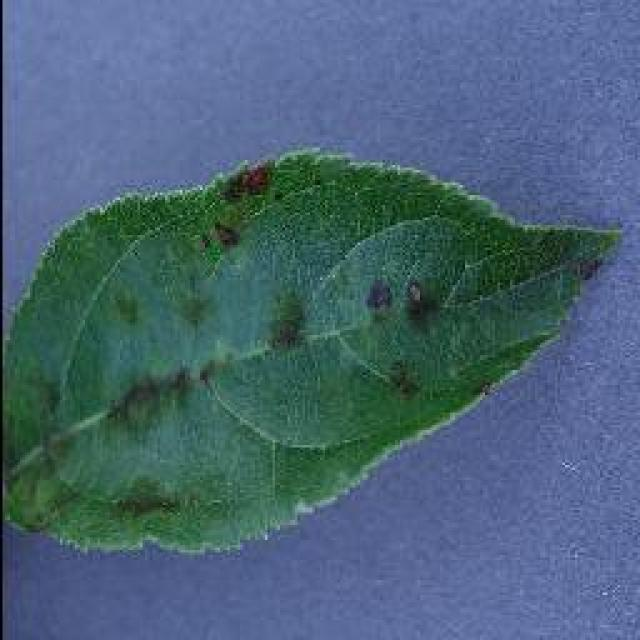apple scab disease: (0, 142, 622, 557)
